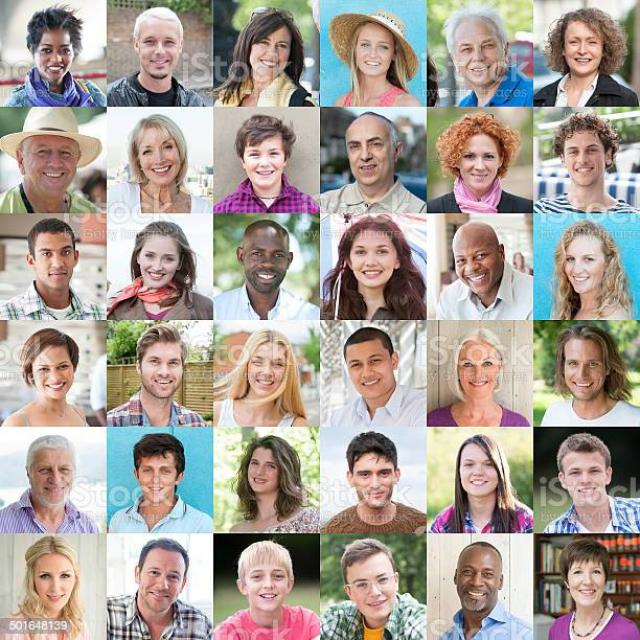Glasses: (347, 573, 396, 598)
